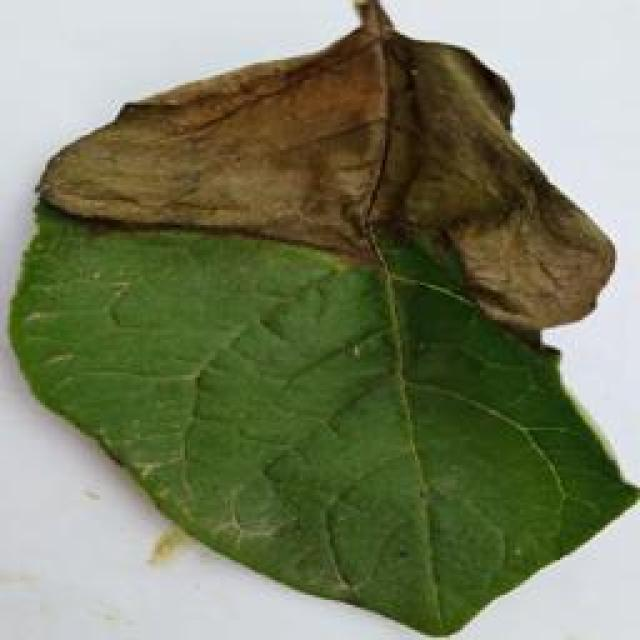Potato_Late_Blight: (15, 20, 640, 640)
